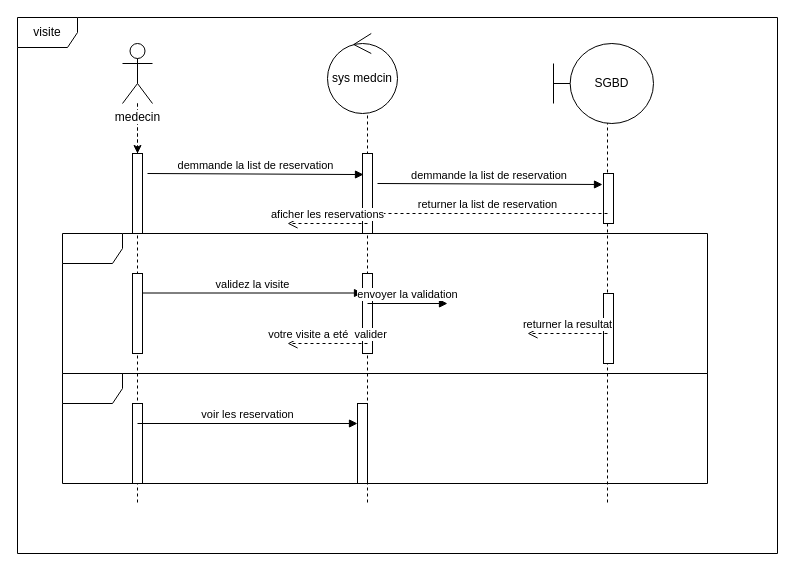
Some shapes in this 795 by 571 pixel diagram are drawn without their labels. The shapes that lost their labels are listed below. From the top down, each one's centre as x and y in pixels, then its label:
(x=385, y=303): validez-visite
(x=385, y=428): consulter
